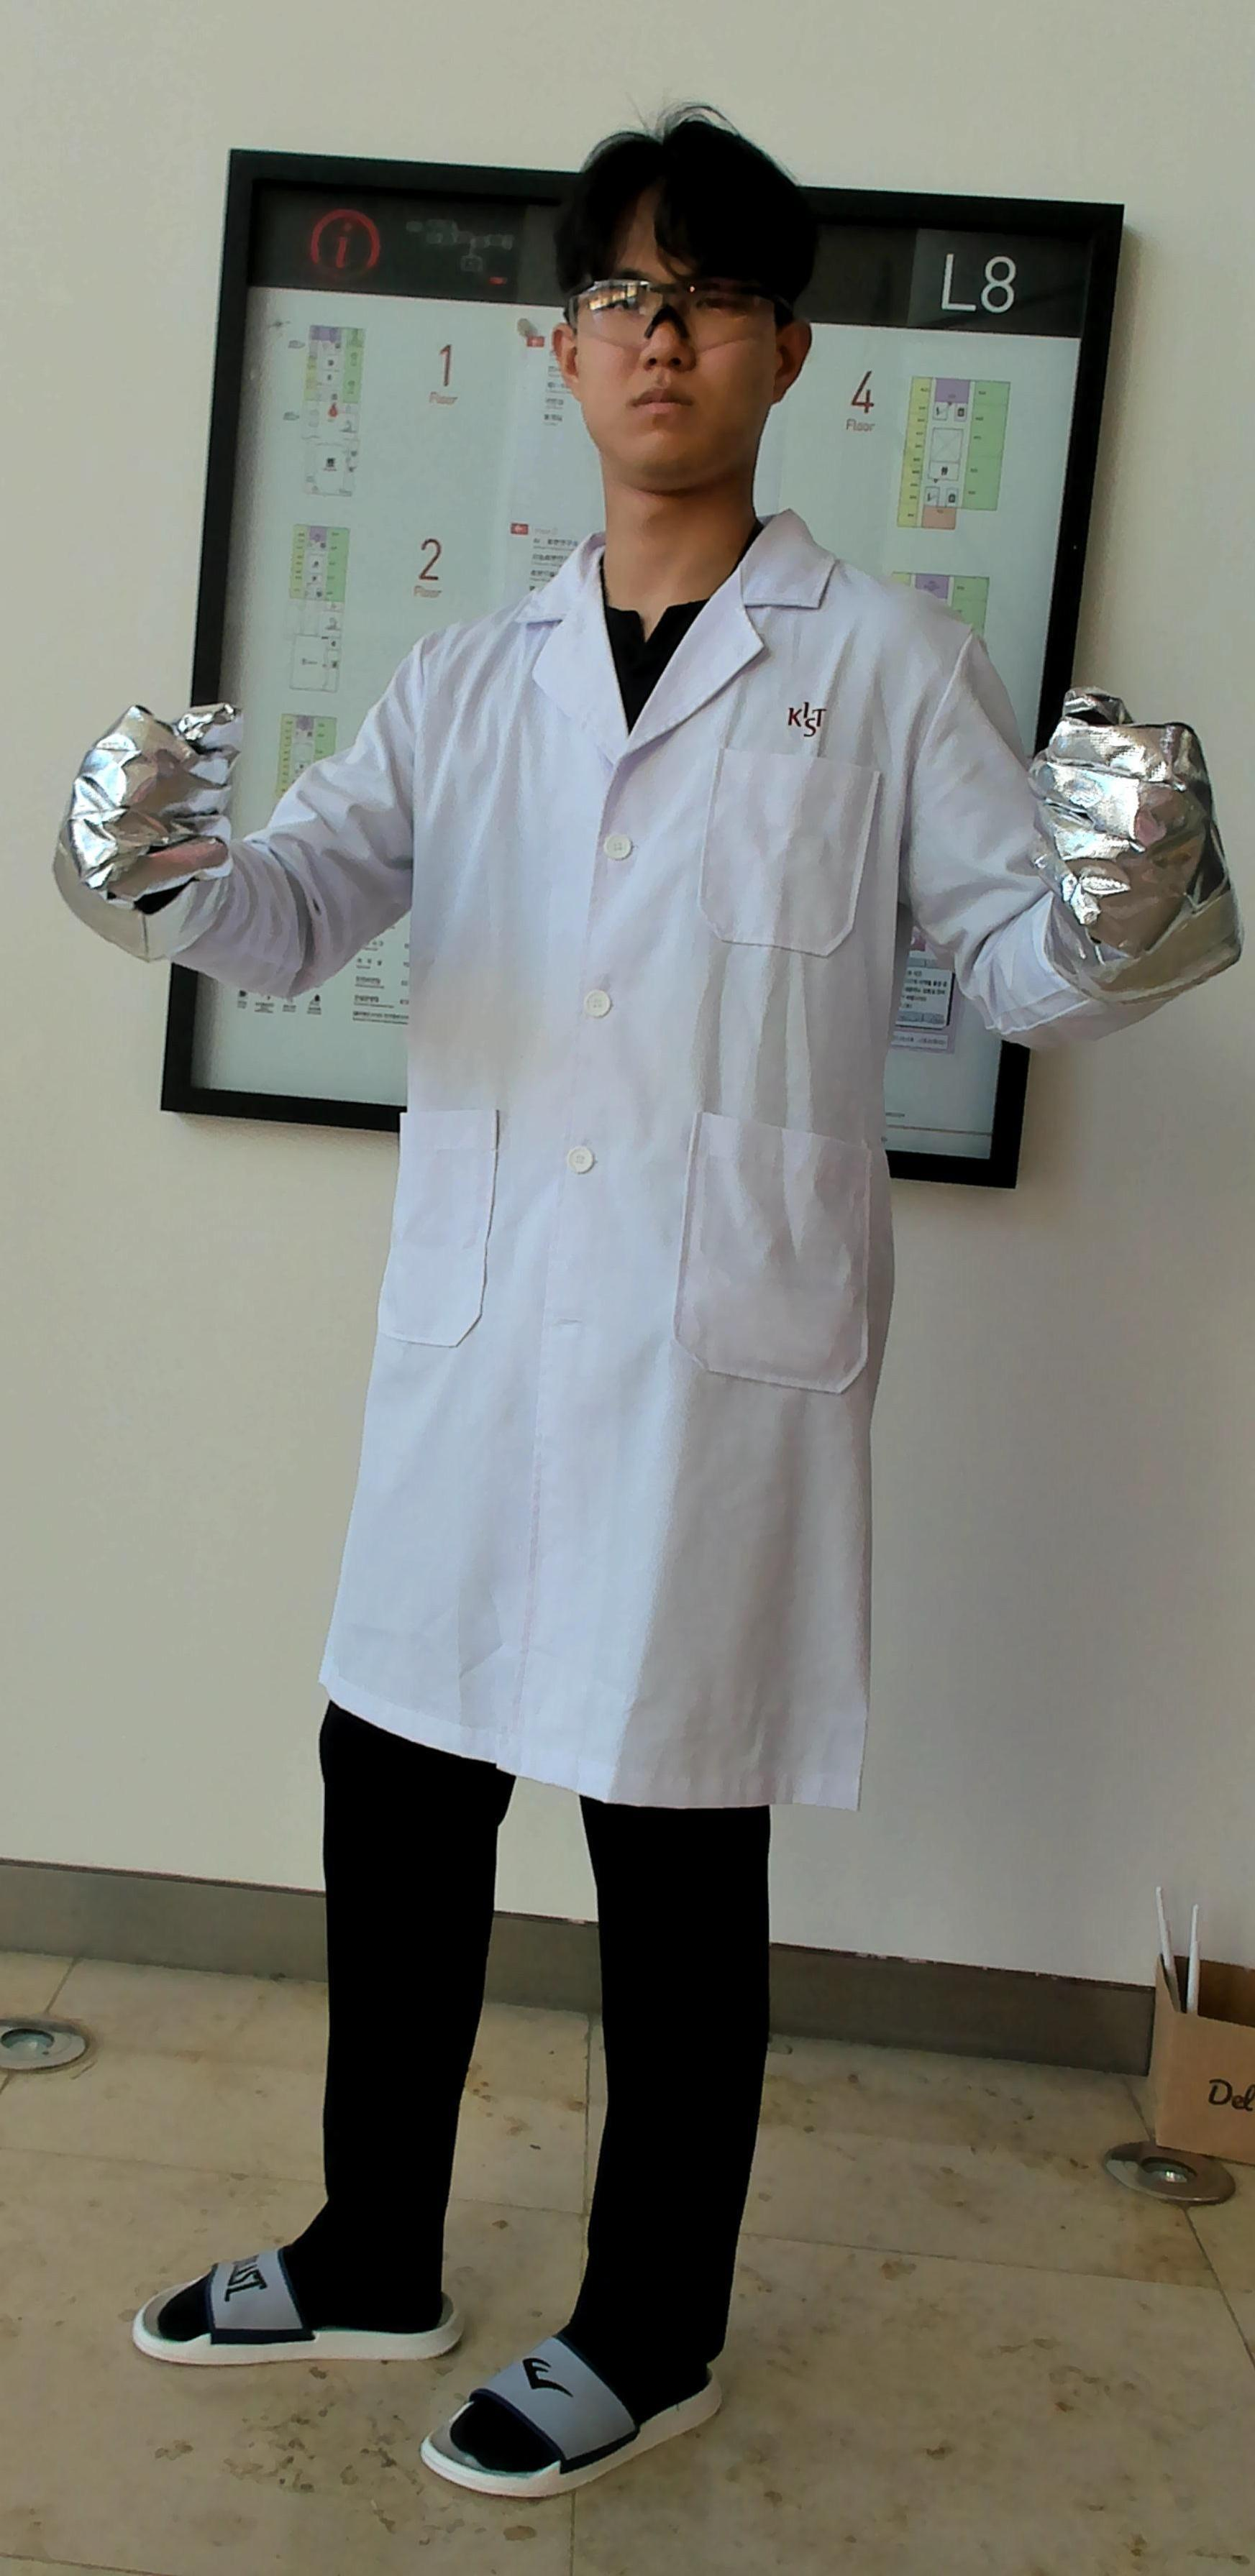lab_coat: (330, 634, 908, 1748)
